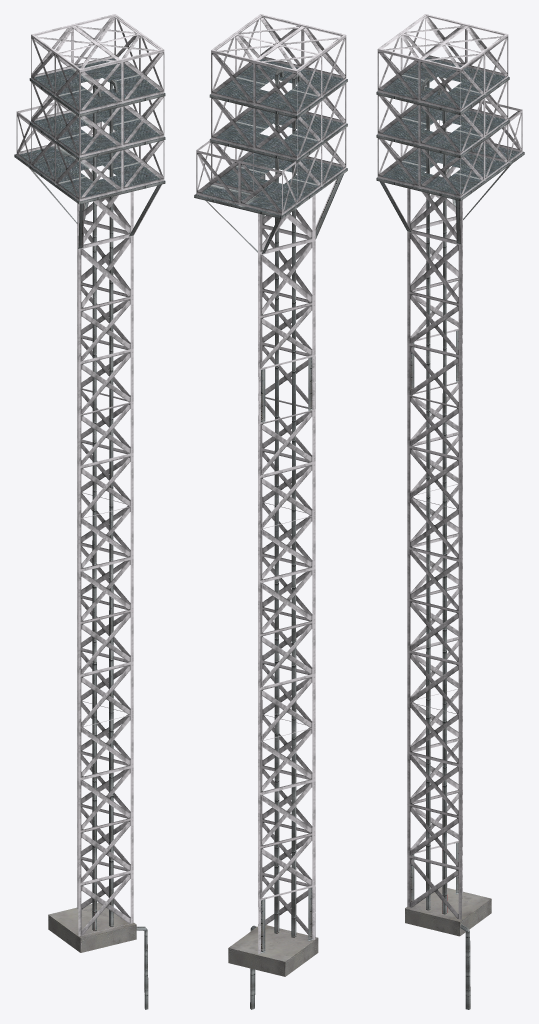
The model's file is StadiumT.glb.
3 views of the same model, side by side, from view 1: azimuth 30°, elevation 25°; view 2: azimuth 150°, elevation 25°; view 3: azimuth 330°, elevation 25° (orthographic). The views are drawn at different scales.
Parts seen in each view (by area): view 1: _StadiumT; view 2: _StadiumT; view 3: _StadiumT.
Part boxes in pixels (x1=…): _StadiumT: x1=14, y1=14, x2=165, y2=1009; _StadiumT: x1=194, y1=14, x2=347, y2=1009; _StadiumT: x1=376, y1=14, x2=524, y2=1009.
Bounding box in the file's own units: 5.15 × 55.24 × 6.72.
Materials: 1 (1 with a texture image).
